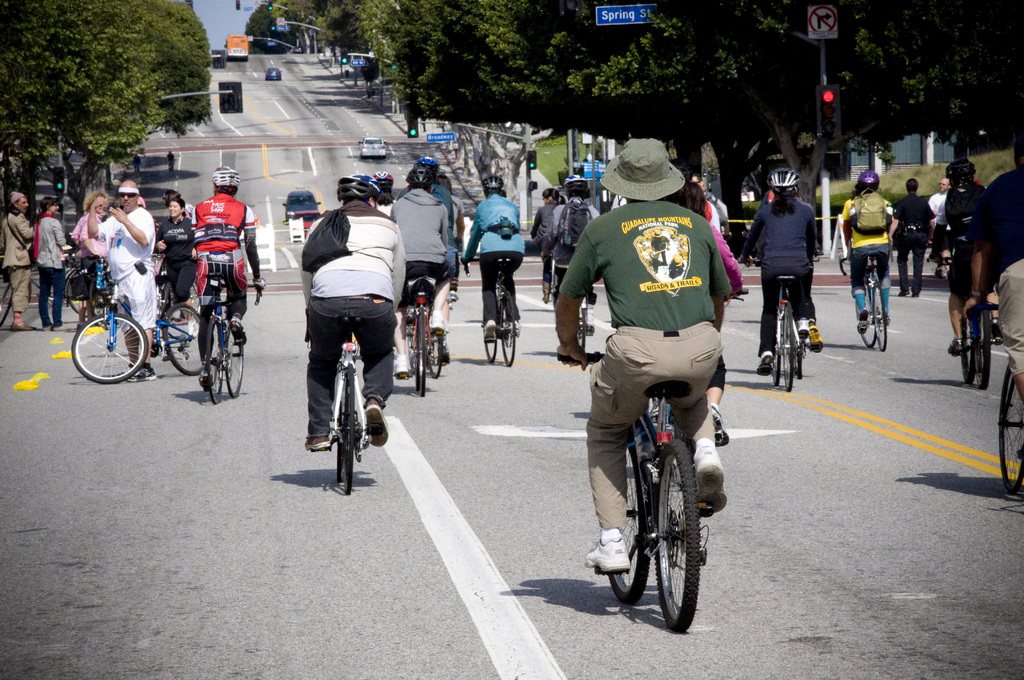Bike_away: (556, 340, 742, 633), (297, 299, 398, 493), (744, 251, 824, 388), (195, 272, 264, 406), (461, 249, 535, 368)
